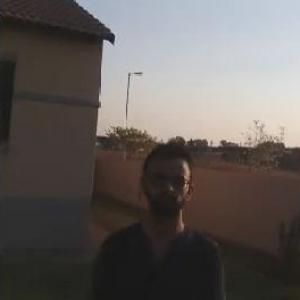follow: (78, 137, 228, 299)
